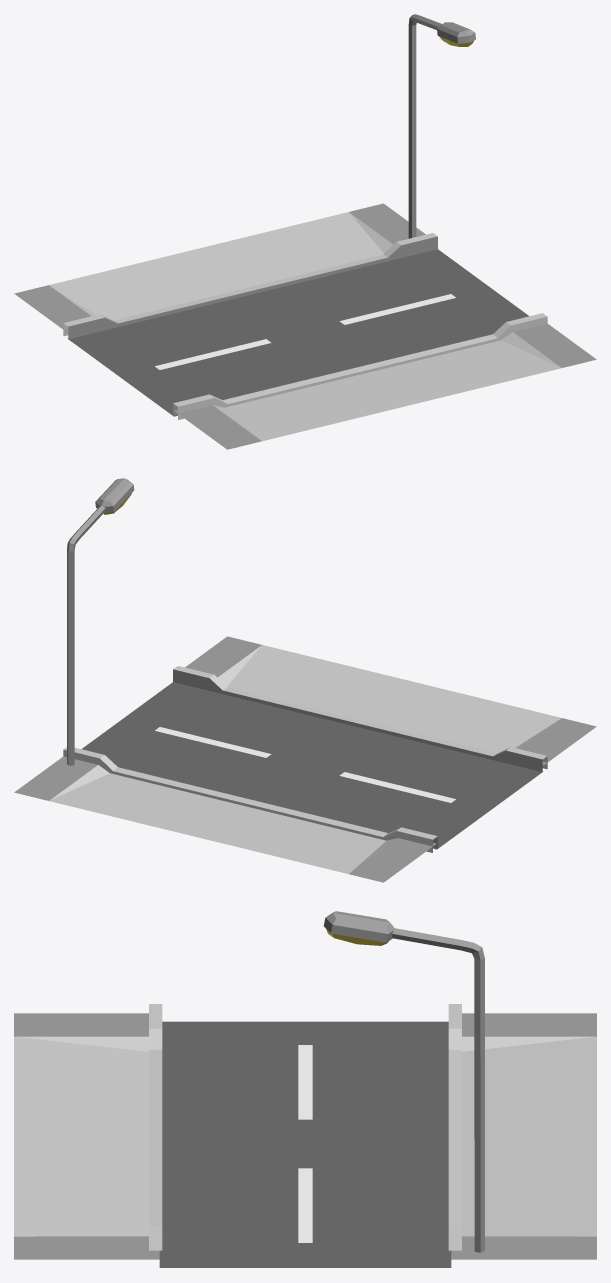
Rendered from road_tile_1x1_007.fbx.
3 views of the same model, one above another, from view 1: azimuth 30°, elevation 25°; view 2: azimuth 150°, elevation 25°; view 3: azimuth 270°, elevation 25° (orthographic). The views are drawn at different scales.
Parts seen in each view (by area): view 1: road_tile_1x1_007; view 2: road_tile_1x1_007; view 3: road_tile_1x1_007.
Boxes of the visible parts, <box> form: road_tile_1x1_007: <box>14,14,596,449</box>; road_tile_1x1_007: <box>14,478,596,882</box>; road_tile_1x1_007: <box>14,911,596,1267</box>.
Size of the model in its own units: 800 by 525 by 800.
